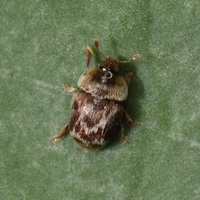insect: (52, 40, 139, 150)
